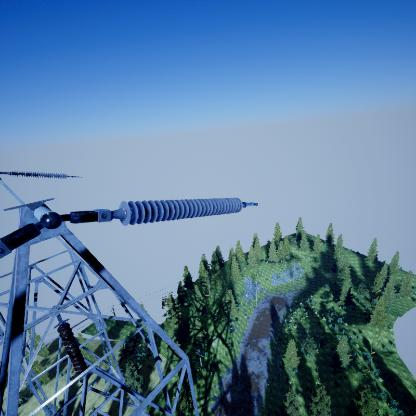insulator: (120, 196, 244, 227)
